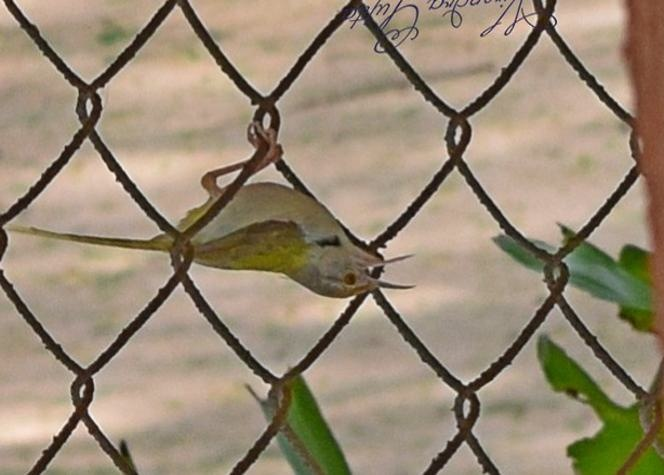tailorbird: (24, 144, 443, 324)
